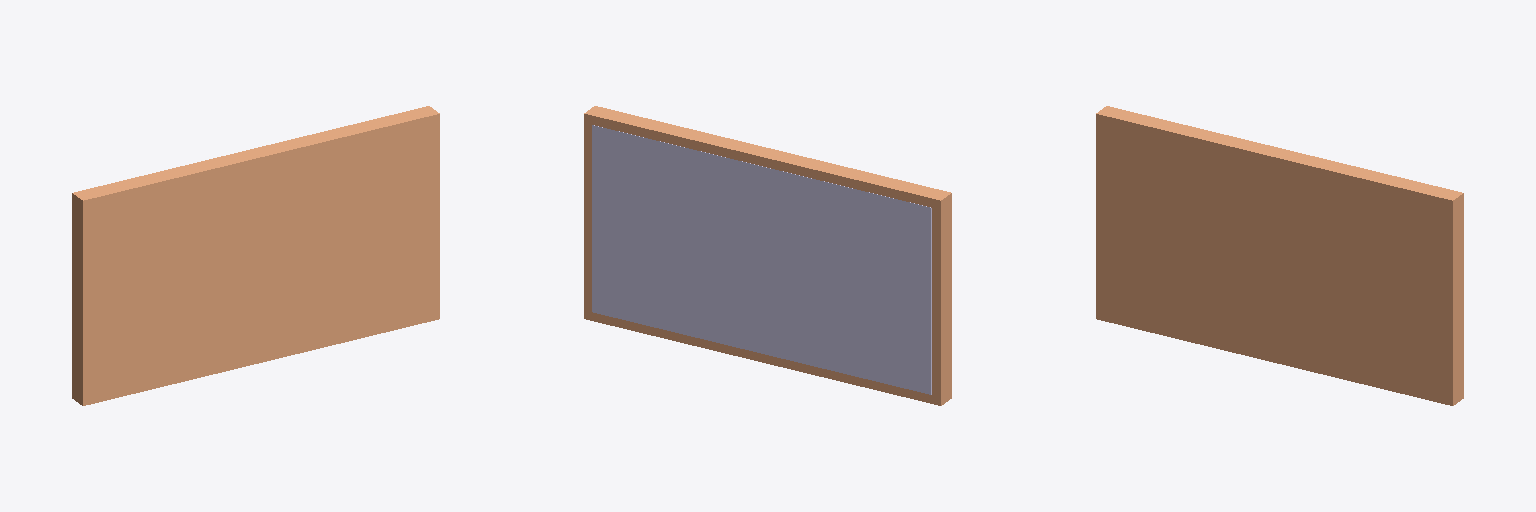
3 renders of one model, left to right at view 1: azimuth 30°, elevation 25°; view 2: azimuth 150°, elevation 25°; view 3: azimuth 330°, elevation 25°, orthographic.
Parts seen in each view (by area): view 1: pCube11; view 2: pCube10, pCube11; view 3: pCube11.
Part boxes in pixels (x1,y1,x2,y2): pCube11: (72, 106, 439, 405); pCube10: (592, 125, 931, 394); pCube11: (584, 106, 951, 405); pCube11: (1096, 106, 1463, 405).
Size of the model in its own units: 2.98 by 1.64 by 0.1587.
2 materials, 2 textured.